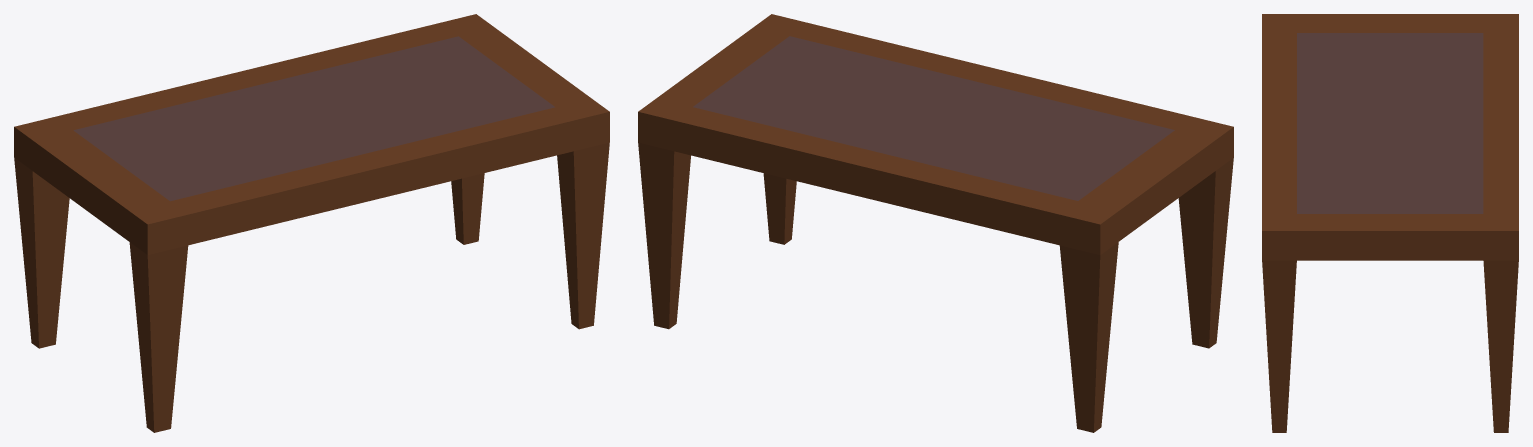
File: Res01_ManagerRoomTable2.fbx
3 renders of one model, left to right at view 1: azimuth 30°, elevation 25°; view 2: azimuth 150°, elevation 25°; view 3: azimuth 270°, elevation 25°, orthographic. The views are drawn at different scales.
Visible parts, largest first — view 1: Res01_ManagerRoomTable2; view 2: Res01_ManagerRoomTable2; view 3: Res01_ManagerRoomTable2.
Boxes of the visible parts, <box> form: Res01_ManagerRoomTable2: <box>14,14,609,432</box>; Res01_ManagerRoomTable2: <box>638,14,1233,432</box>; Res01_ManagerRoomTable2: <box>1262,14,1518,432</box>.
Size of the model in its own units: 200 by 89.03 by 100.
